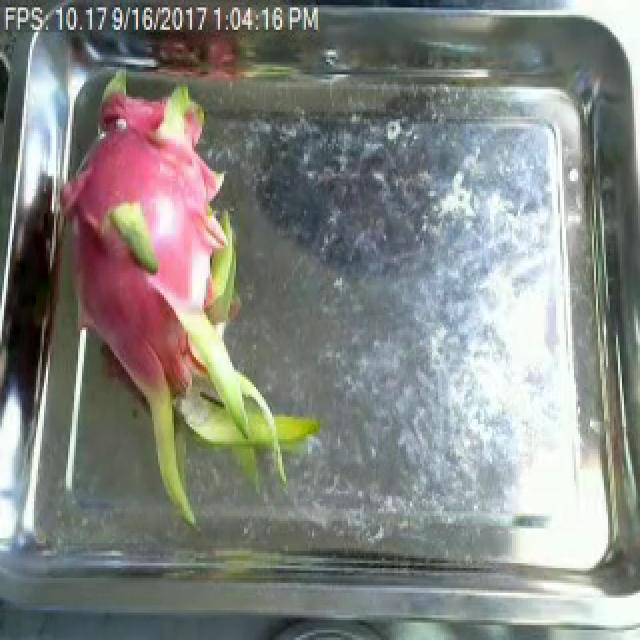fruit: (22, 104, 326, 526)
